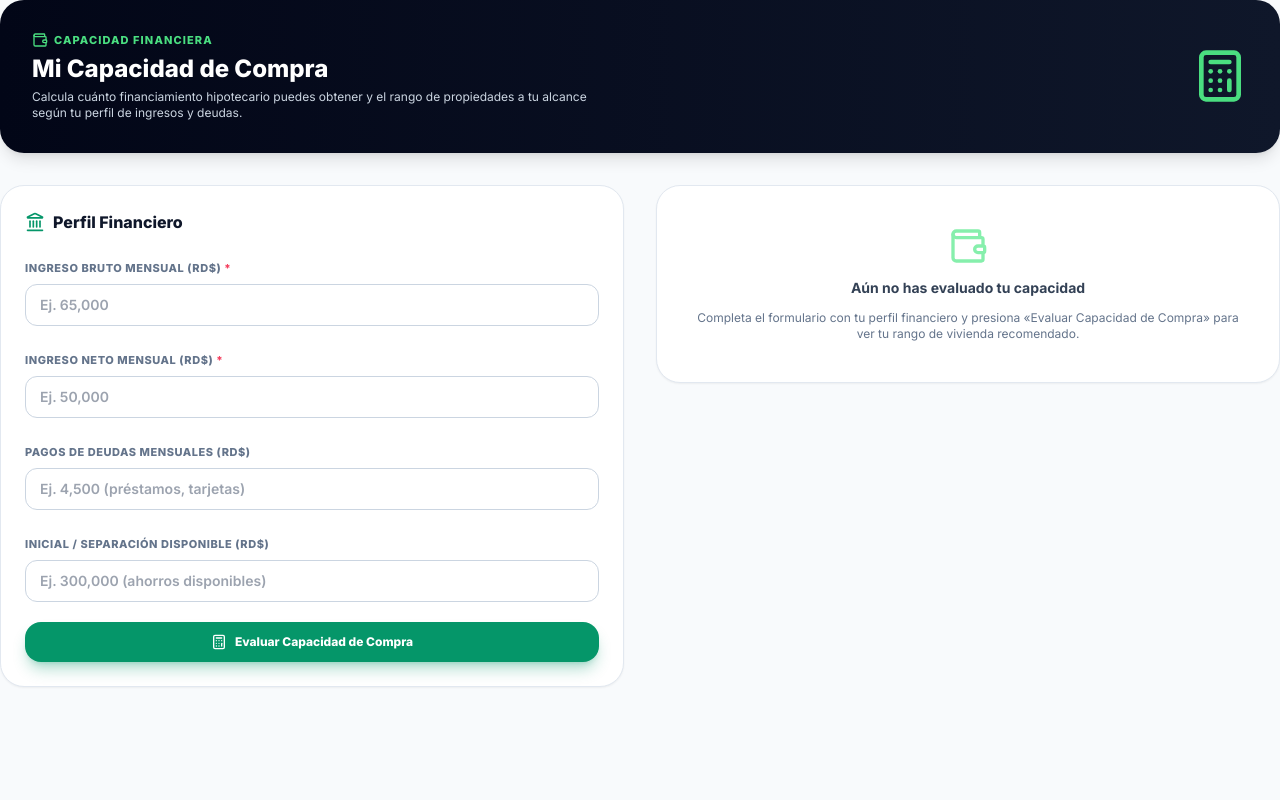
Test: BuyAbilityPage Component › displays correct DTI ratio percentage (9.0% and NOT 9000%) upon evaluation
Expected: the heading "Mi Capacidad de Compra" is shown, left=32, top=54, right=328, bottom=82
Type "65000" into the field with placeholder "Ej. 65,000" at (312, 304), box left=25, top=284, right=599, bottom=326
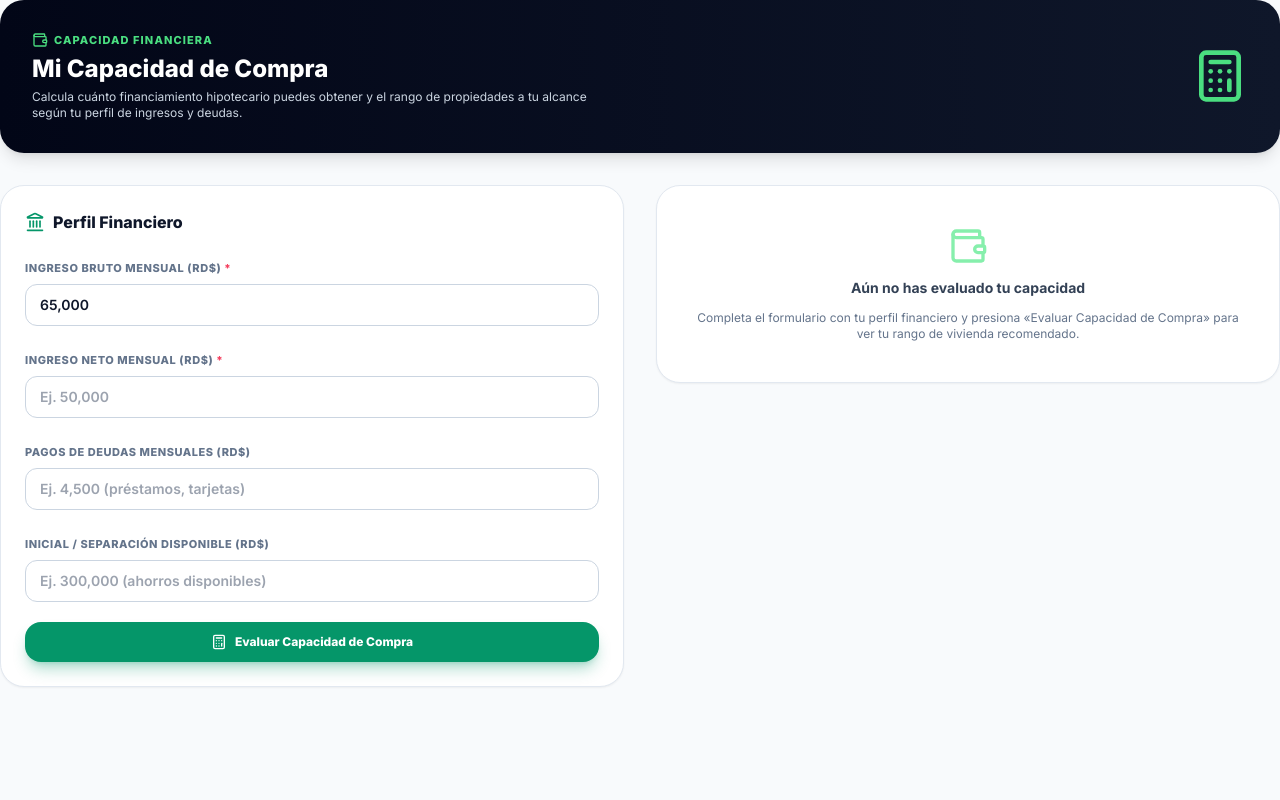
Type "50000" into the field with placeholder "Ej. 50,000" at (312, 396), box left=25, top=376, right=599, bottom=418
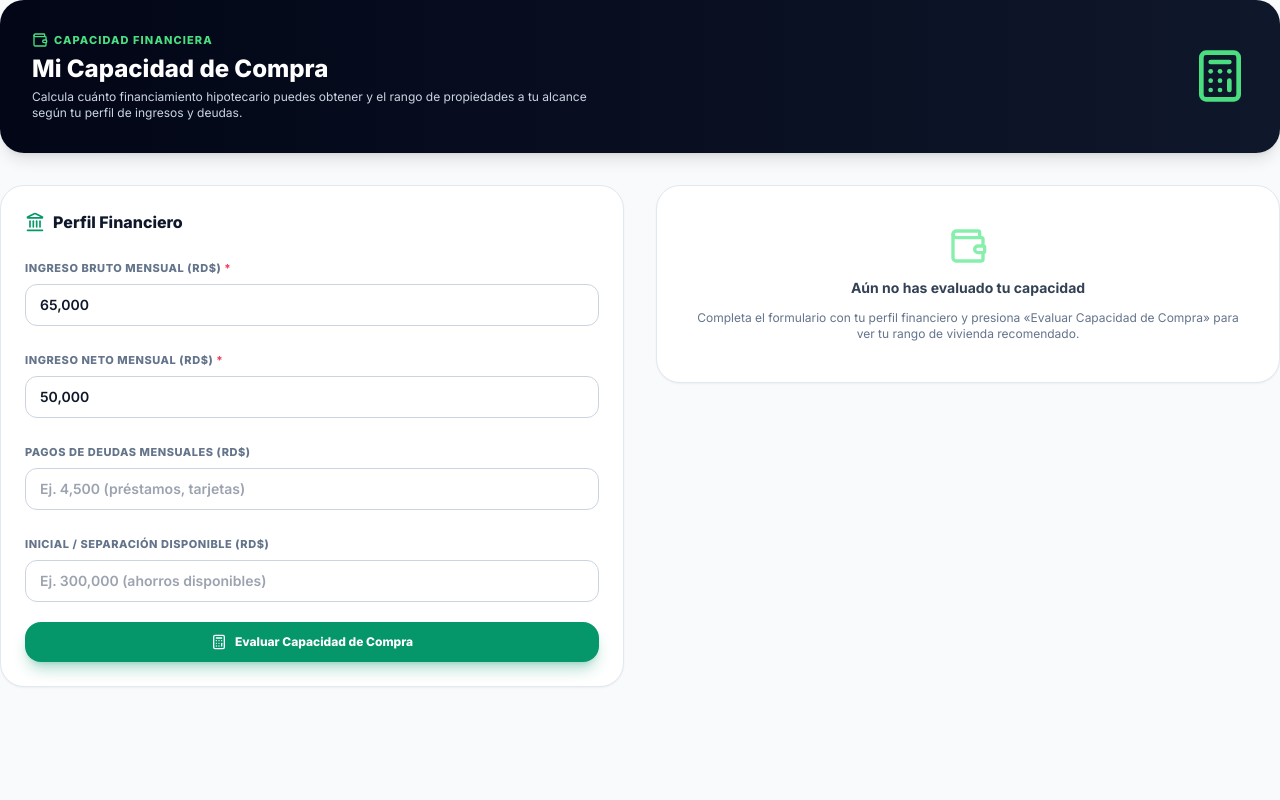
Click the button "Evaluar Capacidad de Compra" at (312, 642), box left=25, top=622, right=599, bottom=662
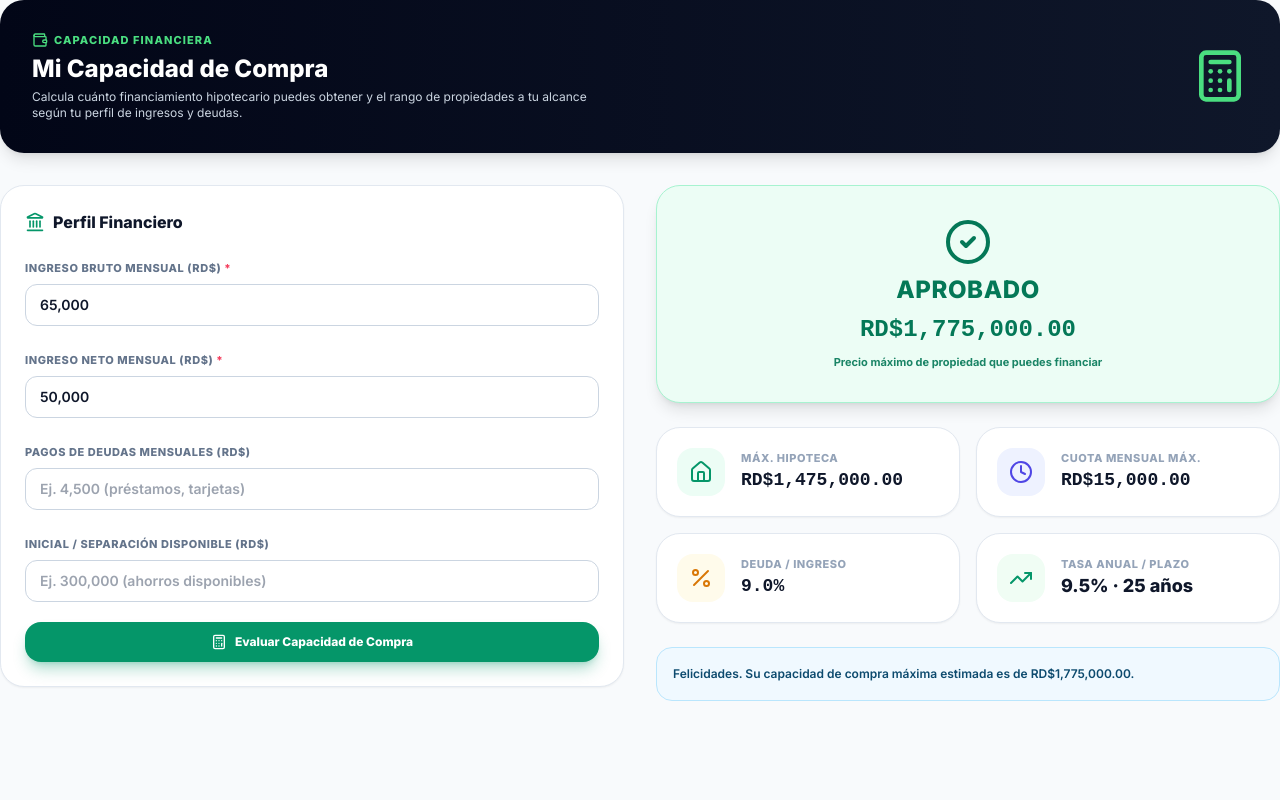
Expected: the text "9.0%" is shown, left=741, top=576, right=784, bottom=596
Expected: the text "RD$1,775,000.00" is shown, left=860, top=316, right=1076, bottom=342
Expected: the text "RD$1,475,000.00" is shown, left=741, top=470, right=903, bottom=490
